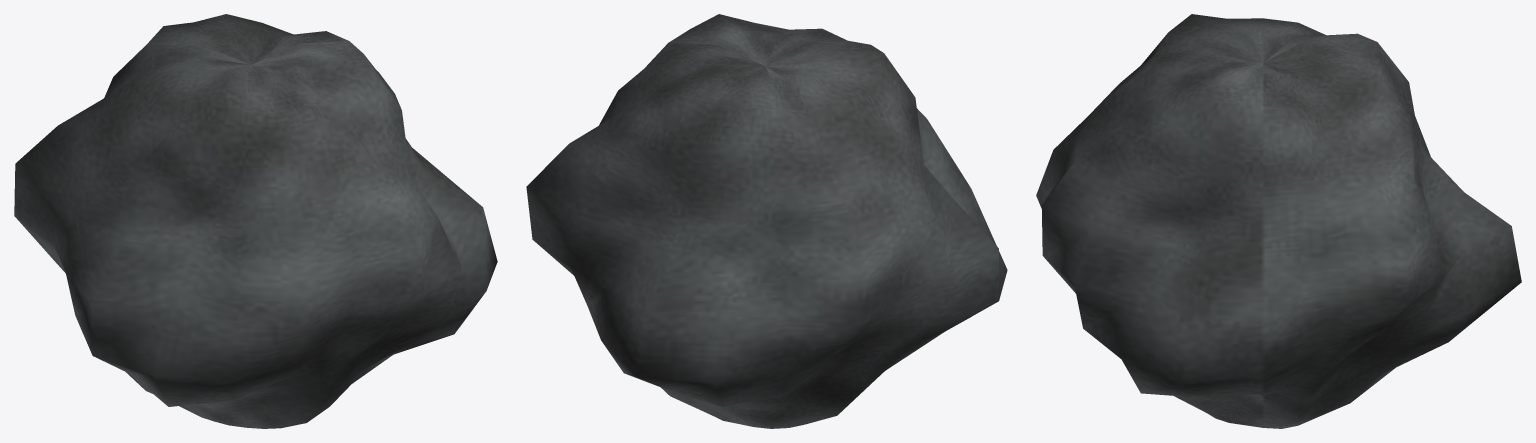
Rendered from rock-a.glb.
3 views of the same model, side by side, from view 1: azimuth 30°, elevation 25°; view 2: azimuth 150°, elevation 25°; view 3: azimuth 270°, elevation 25° (orthographic).
Parts seen in each view (by area): view 1: rock-a; view 2: rock-a; view 3: rock-a.
Part boxes in pixels (x1=…): rock-a: x1=14, y1=14, x2=497, y2=428; rock-a: x1=526, y1=14, x2=1007, y2=428; rock-a: x1=1036, y1=14, x2=1521, y2=428.
Size of the model in its own units: 0.7703 by 0.6537 by 0.7985.
1 material, 1 textured.
